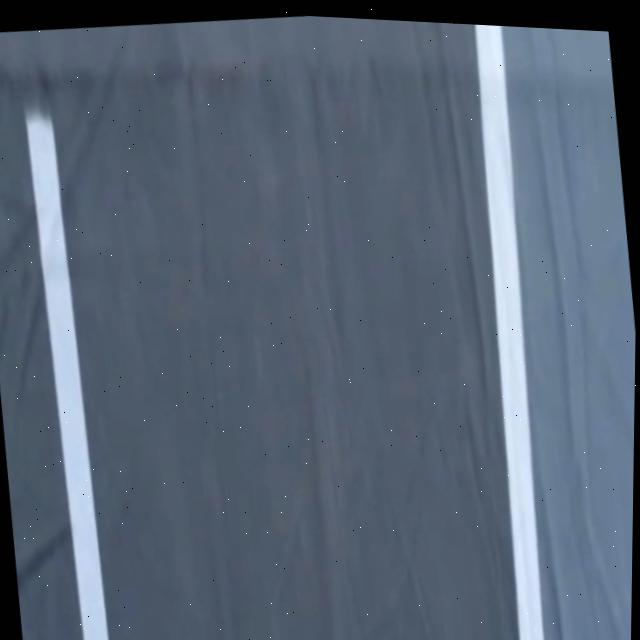center: (26, 110, 109, 640)
left: (475, 25, 543, 640)
